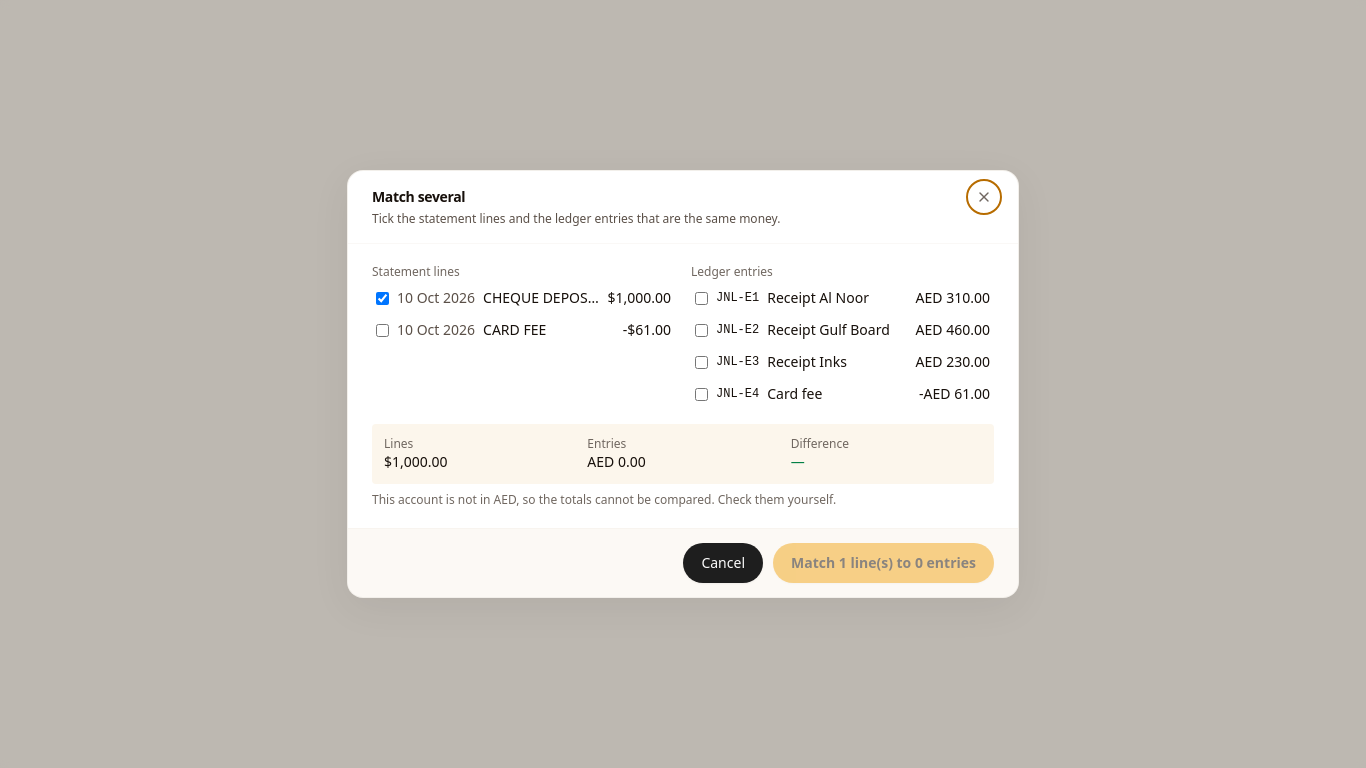
reconciliation matching › does not require agreeing totals when the account is in another currency
Click the checkbox labelled "JNL-E1 Receipt Al Noor": (702, 298) left=695, top=292, right=708, bottom=304
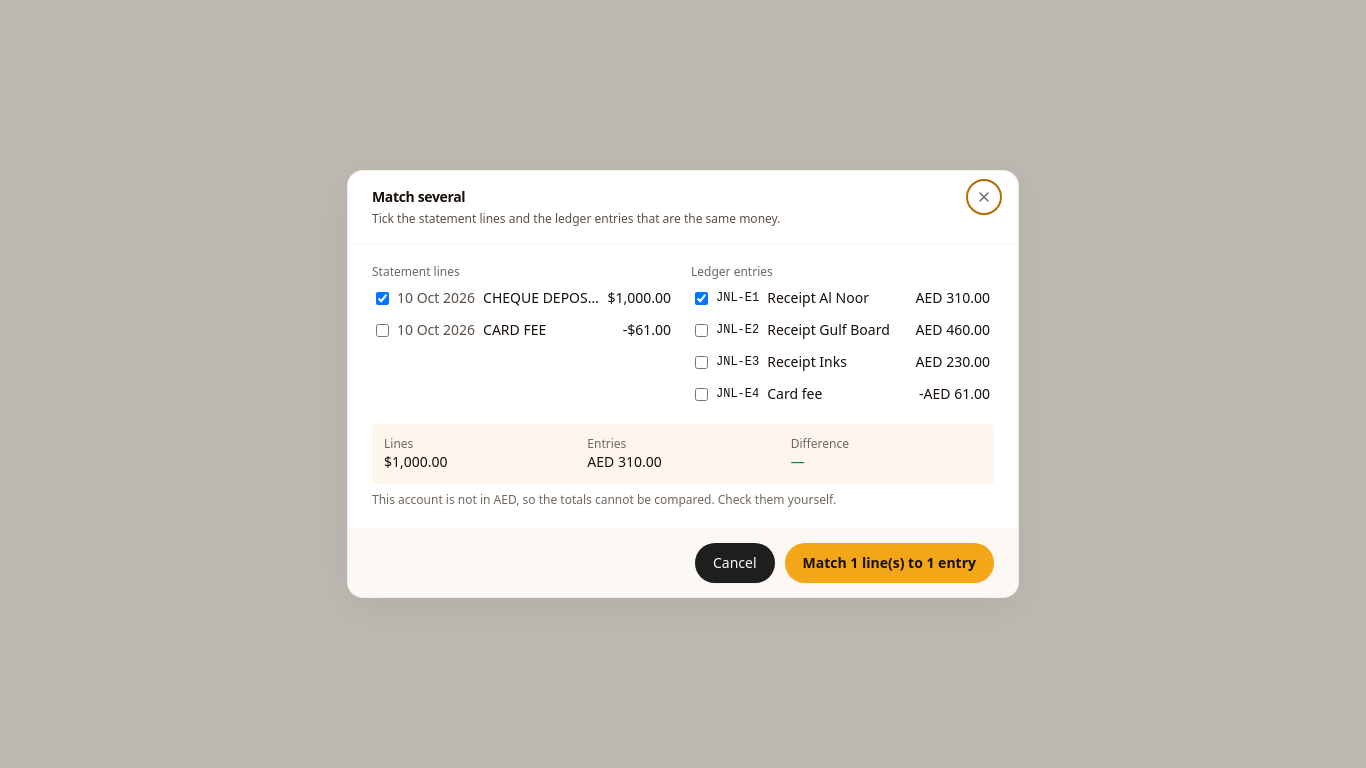
Result: the button "Match 1 line(s) to 1 entry" is enabled at left=784, top=543, right=994, bottom=583
